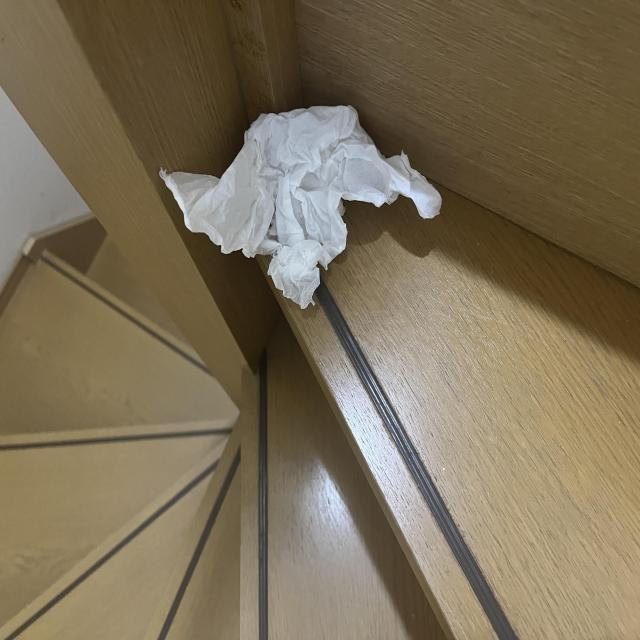Paper: (168, 88, 426, 286)
